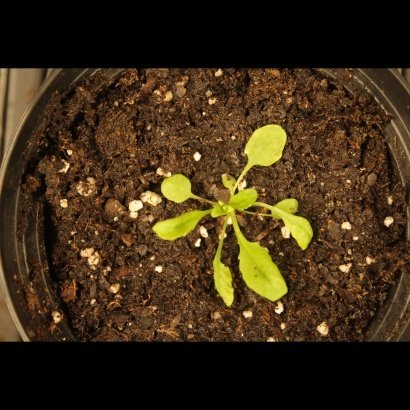leaf: (236, 233, 289, 306), (241, 119, 292, 171), (145, 212, 212, 243), (203, 254, 239, 311), (280, 211, 319, 255), (159, 171, 196, 205), (271, 196, 304, 222), (231, 187, 260, 213), (209, 199, 232, 222), (217, 171, 240, 194)
